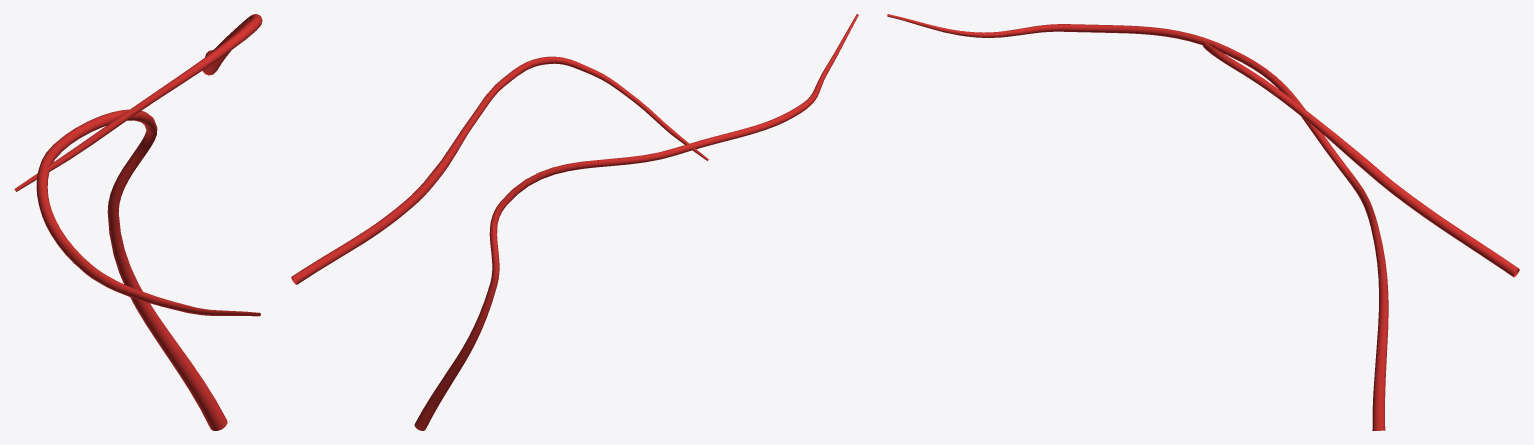
Rendered from circulatorio-ascending-pharyngeal-artery-l.glb.
3 views of the same model, side by side, from view 1: azimuth 30°, elevation 25°; view 2: azimuth 150°, elevation 25°; view 3: azimuth 270°, elevation 25° (orthographic). The views are drawn at different scales.
Visible parts, largest first — view 1: Ascending pharyngeal artery.l; view 2: Ascending pharyngeal artery.l; view 3: Ascending pharyngeal artery.l.
Part boxes in pixels (bbox=[...]): Ascending pharyngeal artery.l: bbox=[14, 14, 262, 430]; Ascending pharyngeal artery.l: bbox=[291, 14, 858, 430]; Ascending pharyngeal artery.l: bbox=[887, 14, 1519, 430].
Size of the model in its own units: 0.0283 by 0.0298 by 0.0486.
